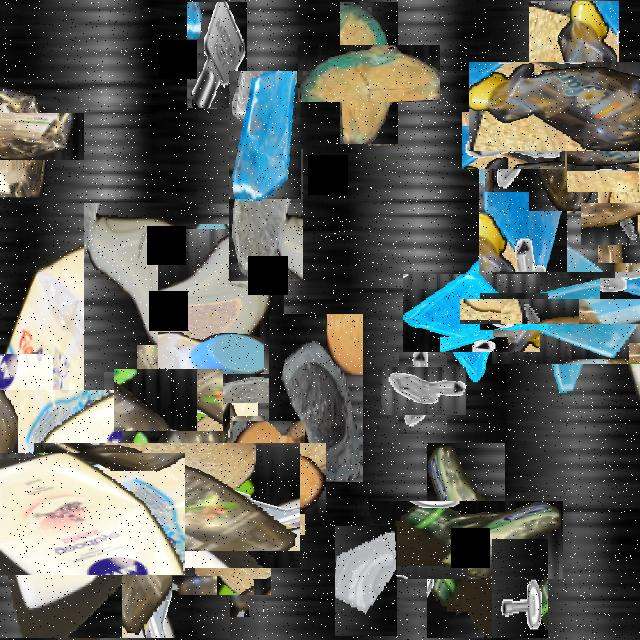glass: (509, 254, 637, 382), (269, 314, 363, 482), (479, 135, 567, 292), (417, 259, 525, 367), (229, 149, 303, 281), (229, 71, 301, 199), (335, 526, 397, 636), (182, 528, 260, 606), (0, 354, 53, 464)
metal: (125, 357, 211, 443), (474, 100, 554, 181), (187, 2, 247, 108), (492, 539, 548, 638), (389, 358, 456, 424), (589, 194, 640, 254), (488, 285, 540, 337)
plastic: (0, 224, 158, 590), (71, 216, 271, 417), (69, 407, 265, 603), (0, 421, 153, 606), (499, 31, 640, 181), (96, 430, 234, 566), (398, 472, 534, 609), (537, 221, 640, 401), (0, 95, 65, 179)
wood: (153, 430, 280, 558), (516, 68, 640, 198), (319, 23, 419, 123), (222, 432, 316, 524)
